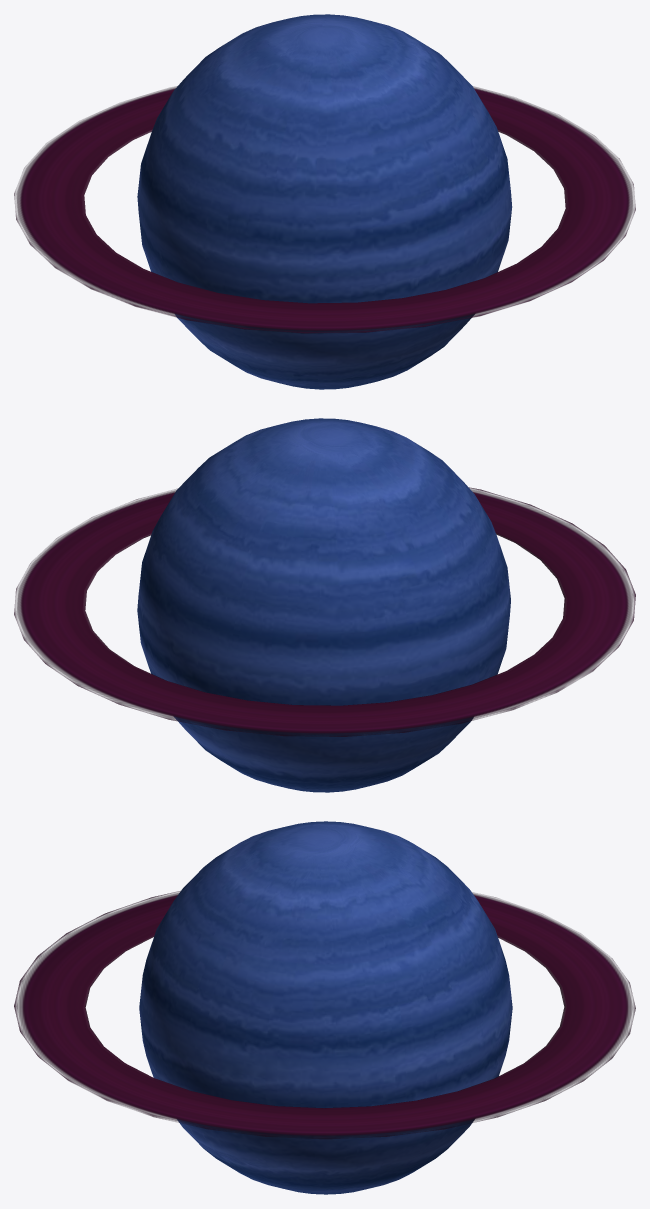
File: planet2.glb
3 views of the same model, one above another, from view 1: azimuth 30°, elevation 25°; view 2: azimuth 150°, elevation 25°; view 3: azimuth 270°, elevation 25° (orthographic).
Parts seen in each view (by area): view 1: Sphere, Circle; view 2: Sphere, Circle; view 3: Sphere, Circle.
Boxes of the visible parts, left/top/right/bottom form: Sphere: left=137, top=14, right=512, bottom=389; Circle: left=14, top=86, right=635, bottom=333; Sphere: left=137, top=418, right=510, bottom=792; Circle: left=14, top=487, right=635, bottom=736; Sphere: left=139, top=821, right=512, bottom=1194; Circle: left=14, top=891, right=635, bottom=1139.
Bounding box in the file's own units: 3.32 × 2 × 3.33.
2 materials, 2 textured.
